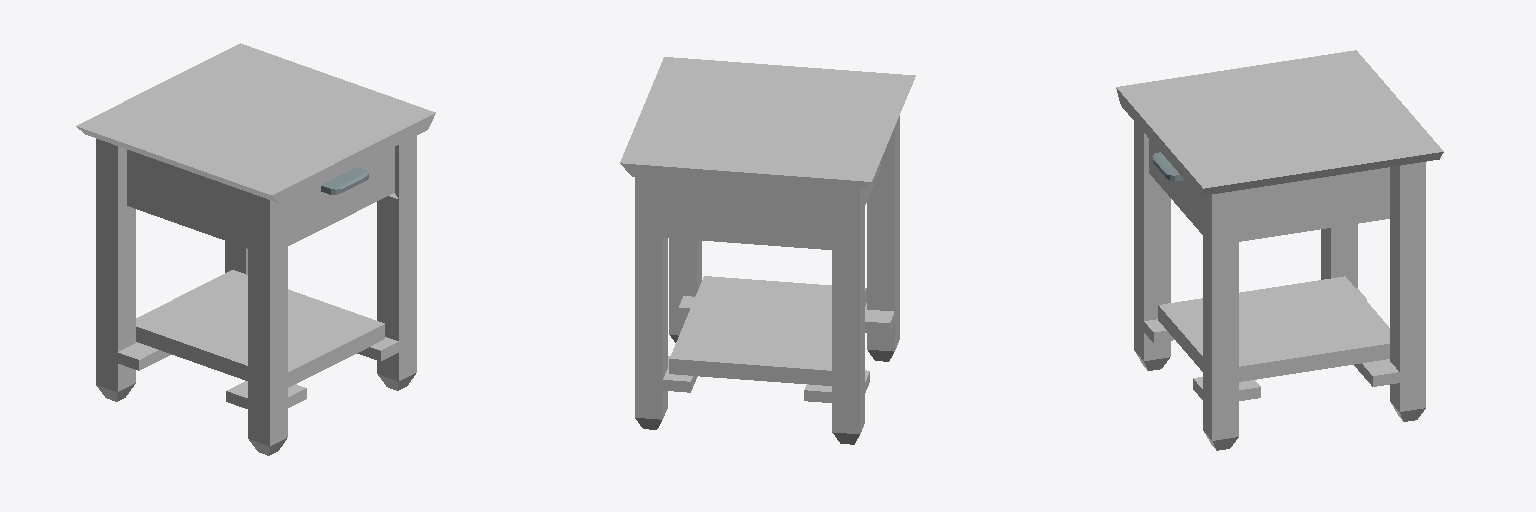
File: table2.obj
The picture shows the model from 3 angles: view 1: azimuth 30°, elevation 25°; view 2: azimuth 150°, elevation 25°; view 3: azimuth 270°, elevation 25°; orthographic projection.
Visible parts, largest first — view 1: Cube.2; view 2: Cube.2; view 3: Cube.2.
Part boxes in pixels (x1,y1,x2,y2): Cube.2: (76,43,435,455); Cube.2: (620,57,915,444); Cube.2: (1116,50,1443,450).
Bounding box in the file's own units: 57.68 × 53 × 57.68.